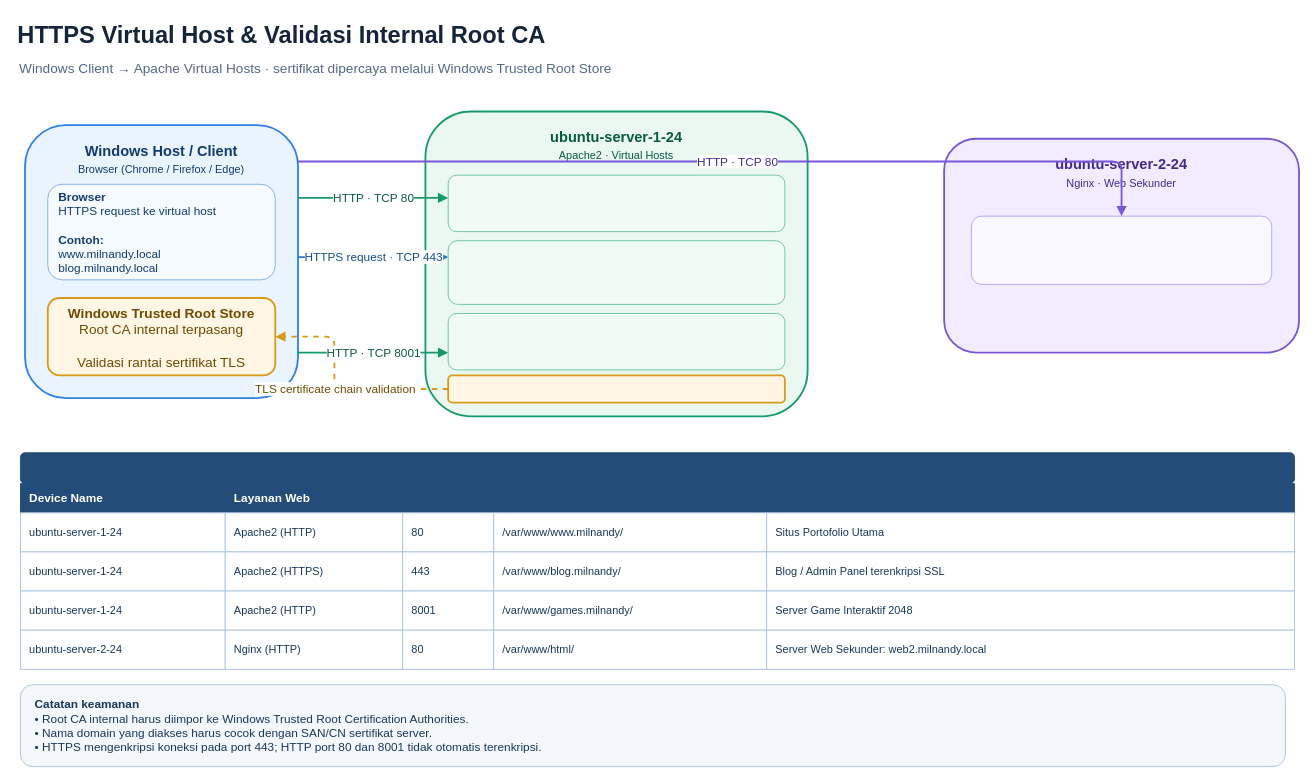
This 1315x783 diagram has some shape labels left out. The centre of each missing label's shape, as x and y in pixels:
blog.milnandy.local HTTPS :443 · SSL/TLS DocumentRoot: /var/www/blog.milnandy/: the point at 616,272
Catatan: the point at 1030,498
Document Root Direktori: the point at 630,498
games.milnandy.local HTTP :8001 DocumentRoot: /var/www/games.milnandy/: the point at 616,341
Port: the point at 448,498
Sertifikat server Ditandatangani oleh Root CA internal: the point at 616,388
Tabel Pengamatan IP / Interface & Layanan Web: the point at 657,468
web2.milnandy.local HTTP :80 DocumentRoot: /var/www/html/: the point at 1121,249
www.milnandy.local HTTP :80 DocumentRoot: /var/www/www.milnandy/: the point at 616,203
